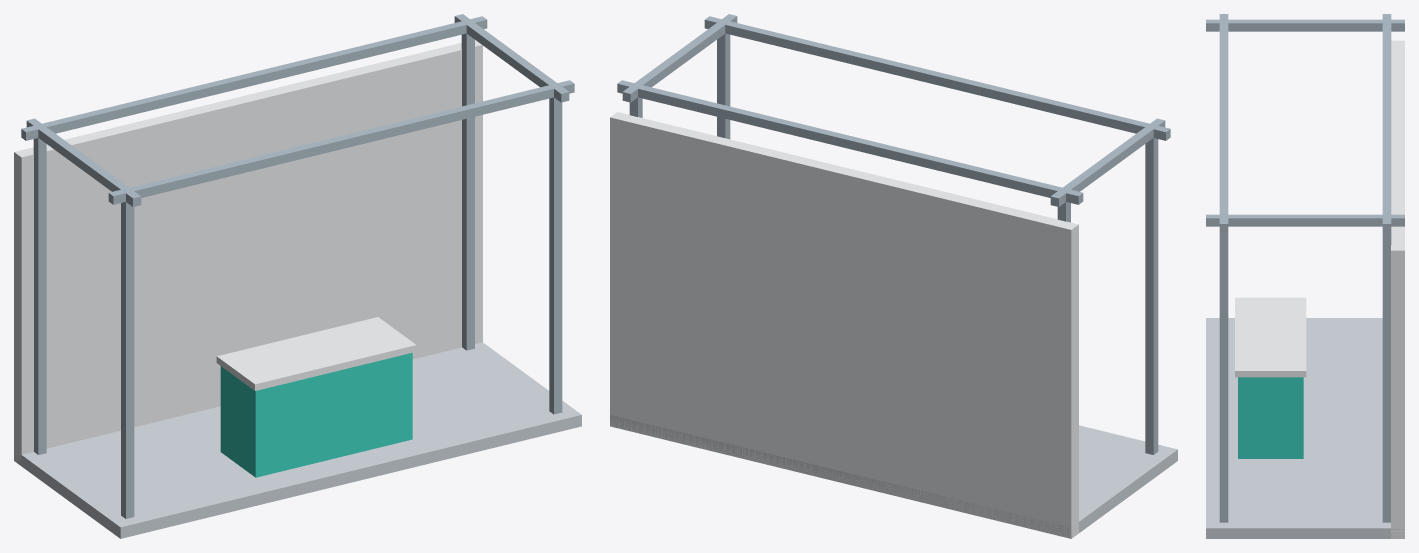
3 renders of one model, left to right at view 1: azimuth 30°, elevation 25°; view 2: azimuth 150°, elevation 25°; view 3: azimuth 270°, elevation 25°, orthographic. The views are drawn at different scales.
Visible parts, largest first — view 1: Exhibition Booth Concept; view 2: Exhibition Booth Concept; view 3: Exhibition Booth Concept.
Part boxes in pixels (bbox=[...]): Exhibition Booth Concept: bbox=[14, 14, 581, 538]; Exhibition Booth Concept: bbox=[610, 14, 1177, 538]; Exhibition Booth Concept: bbox=[1206, 14, 1404, 538].
Size of the model in its own units: 5 by 3.49 by 2.
